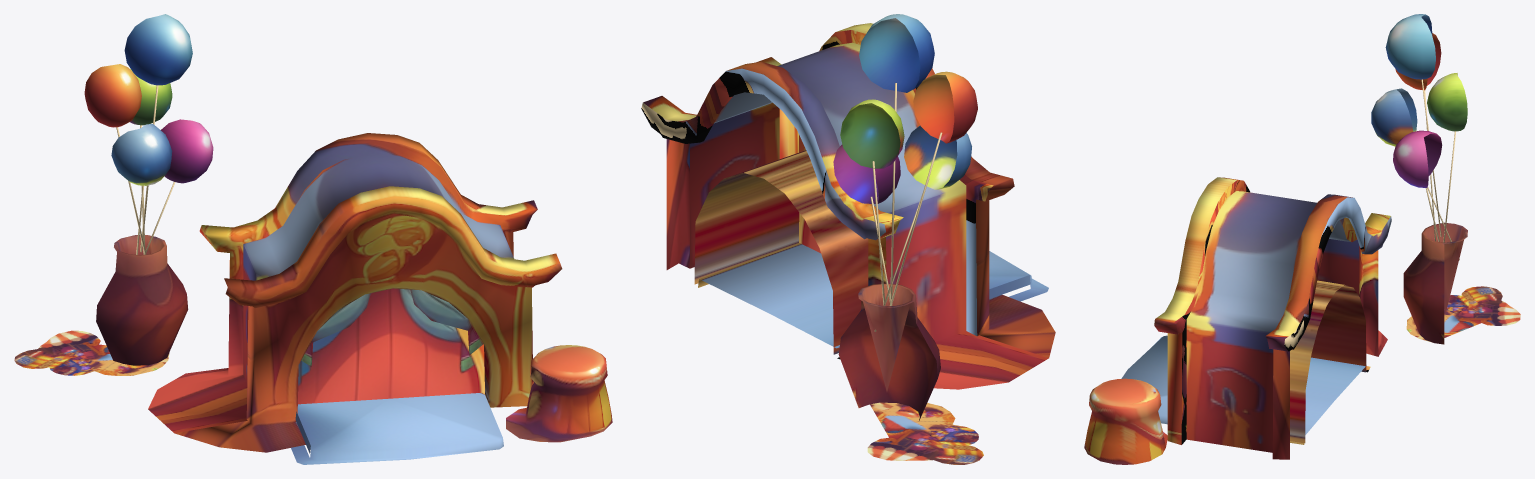
Rendered from stage_01_2.fbx.
3 views of the same model, side by side, from view 1: azimuth 30°, elevation 25°; view 2: azimuth 150°, elevation 25°; view 3: azimuth 270°, elevation 25° (orthographic). The views are drawn at different scales.
Parts seen in each view (by area): view 1: 2_4, 2_5, 2_2, 2_1, 2_3, 2_6; view 2: 2_4, 2_2, 2_1, 2_3, 2_5, 2_6; view 3: 2_4, 2_2, 2_1, 2_6, 2_3.
Boxes of the visible parts, left/top/right/bottom form: 2_4: left=148, top=133, right=562, bottom=452; 2_5: left=298, top=288, right=484, bottom=404; 2_2: left=84, top=14, right=213, bottom=254; 2_1: left=14, top=235, right=188, bottom=375; 2_3: left=291, top=392, right=503, bottom=464; 2_6: left=295, top=345, right=612, bottom=453; 2_4: left=641, top=23, right=1055, bottom=389; 2_2: left=833, top=14, right=977, bottom=331; 2_1: left=838, top=283, right=983, bottom=464; 2_3: left=698, top=243, right=1048, bottom=359; 2_5: left=799, top=135, right=820, bottom=253; 2_6: left=989, top=275, right=1030, bottom=298; 2_4: left=1154, top=177, right=1391, bottom=459; 2_2: left=1371, top=14, right=1467, bottom=260; 2_1: left=1403, top=222, right=1520, bottom=344; 2_6: left=1084, top=378, right=1167, bottom=464; 2_3: left=1121, top=335, right=1370, bottom=444.
Size of the model in its own units: 377 by 304 by 376.
